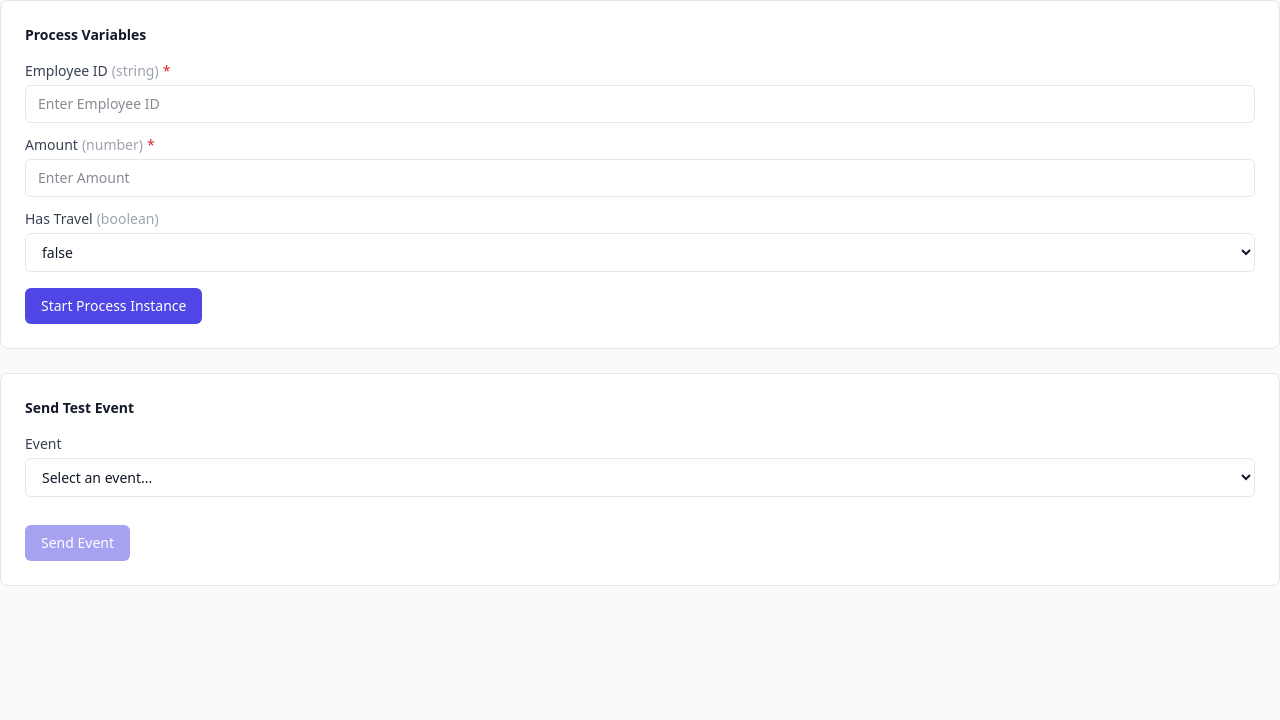
Test: SpawnForm › spawns process instance when start button clicked
The image size is (1280, 720).
What coordinates should you click on to do the following:
click the button "Start Process Instance"
I would click on:
 (114, 306)
Its box is [25,288,202,324].
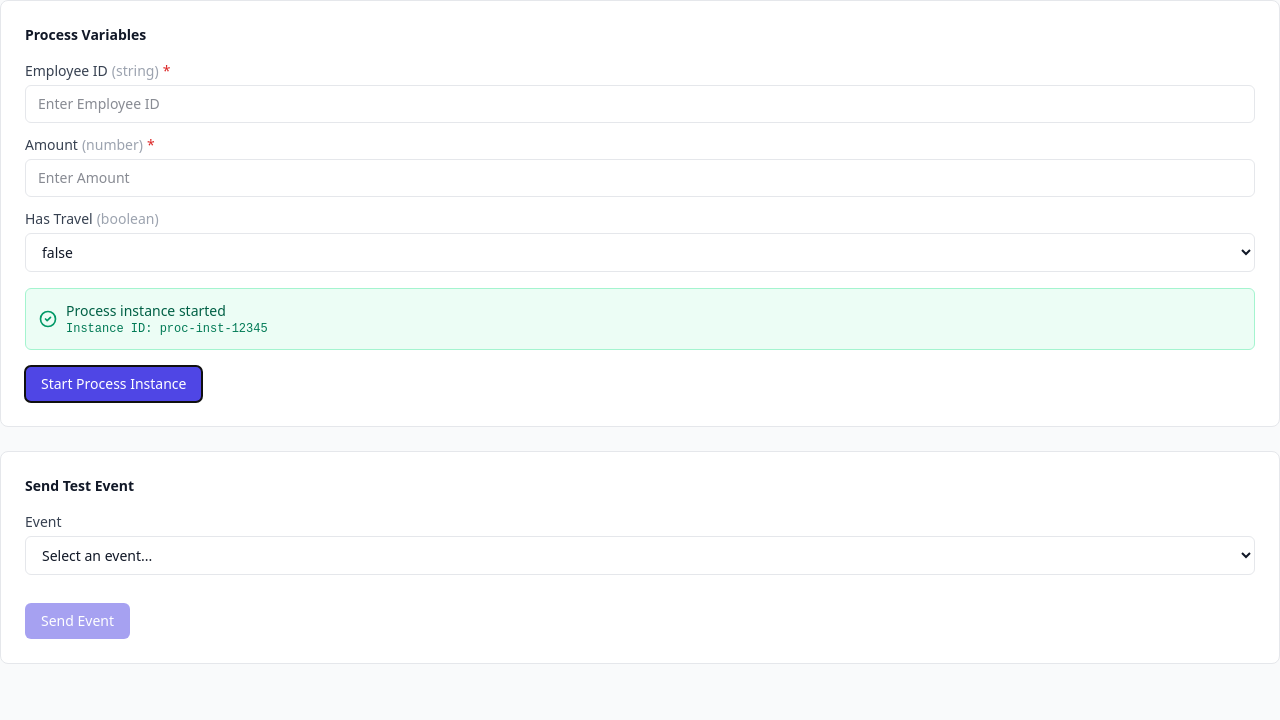
Now the text "Instance ID: proc-inst-12345" is shown, box [66,321,268,337]
